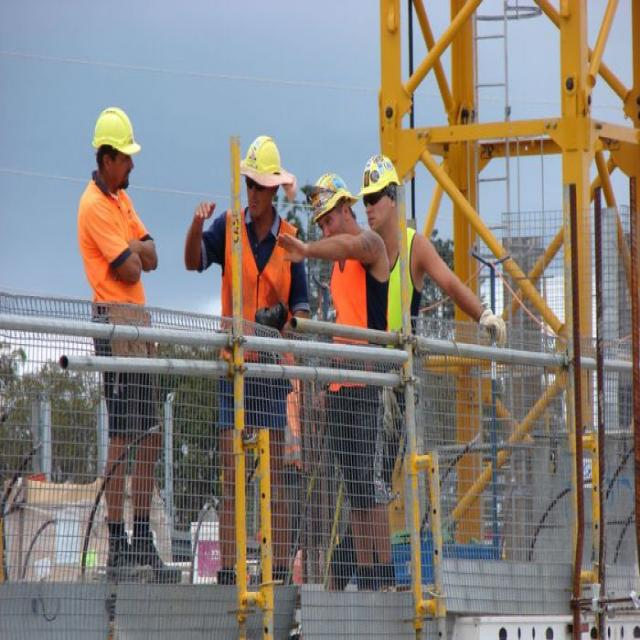Reflective-Jacket: (72, 175, 158, 359), (215, 202, 298, 363), (333, 220, 427, 360)
Safety-Helmet: (234, 125, 293, 193), (90, 100, 144, 163), (306, 162, 357, 222), (354, 145, 405, 203)
